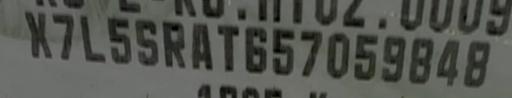letter: (157, 18, 189, 69), (462, 40, 494, 88), (22, 8, 52, 58), (76, 13, 106, 63), (188, 18, 216, 70), (269, 26, 297, 76), (48, 11, 76, 59), (105, 16, 133, 64), (407, 36, 435, 84), (242, 24, 268, 74), (214, 24, 240, 73), (298, 27, 324, 76), (132, 18, 158, 66), (326, 31, 352, 79), (352, 32, 378, 80), (436, 35, 460, 86), (380, 34, 404, 81)
